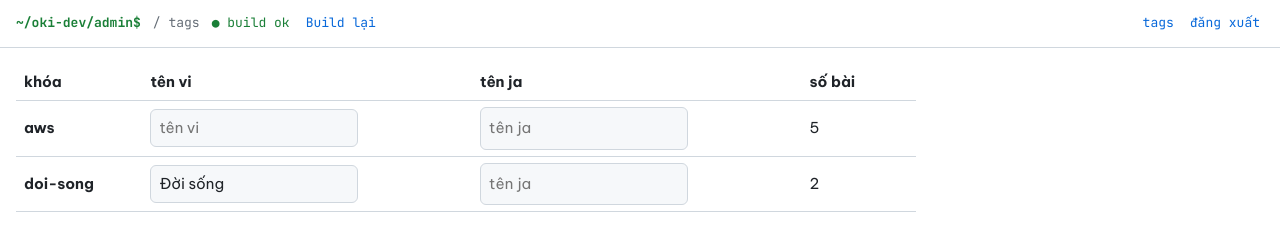
Test: TagsPage › saves a renamed tag when leaving the field, dropping empty names
Type "暮らし" into the field named "Tên ja của doi-song" at (584, 184), box [480,162,688,205]
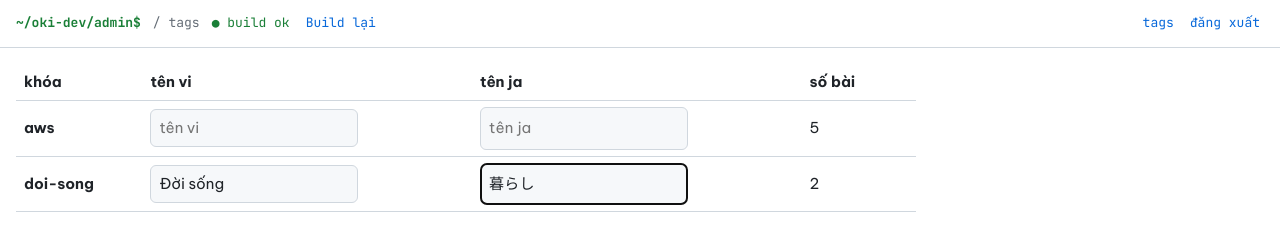
Press Tab
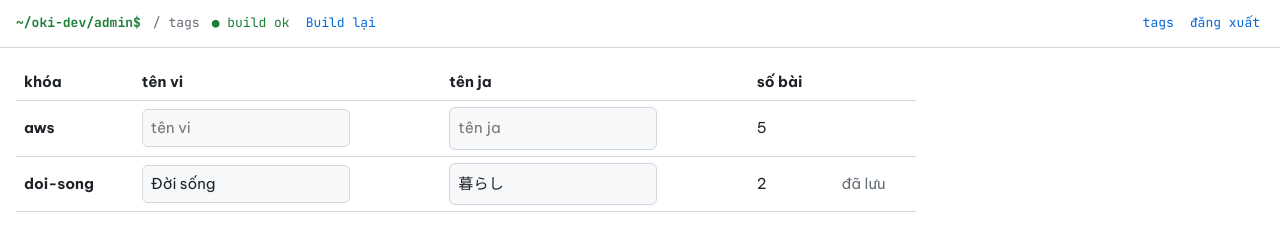
Check: the text "đã lưu" is shown, box [833,156,916,212]
